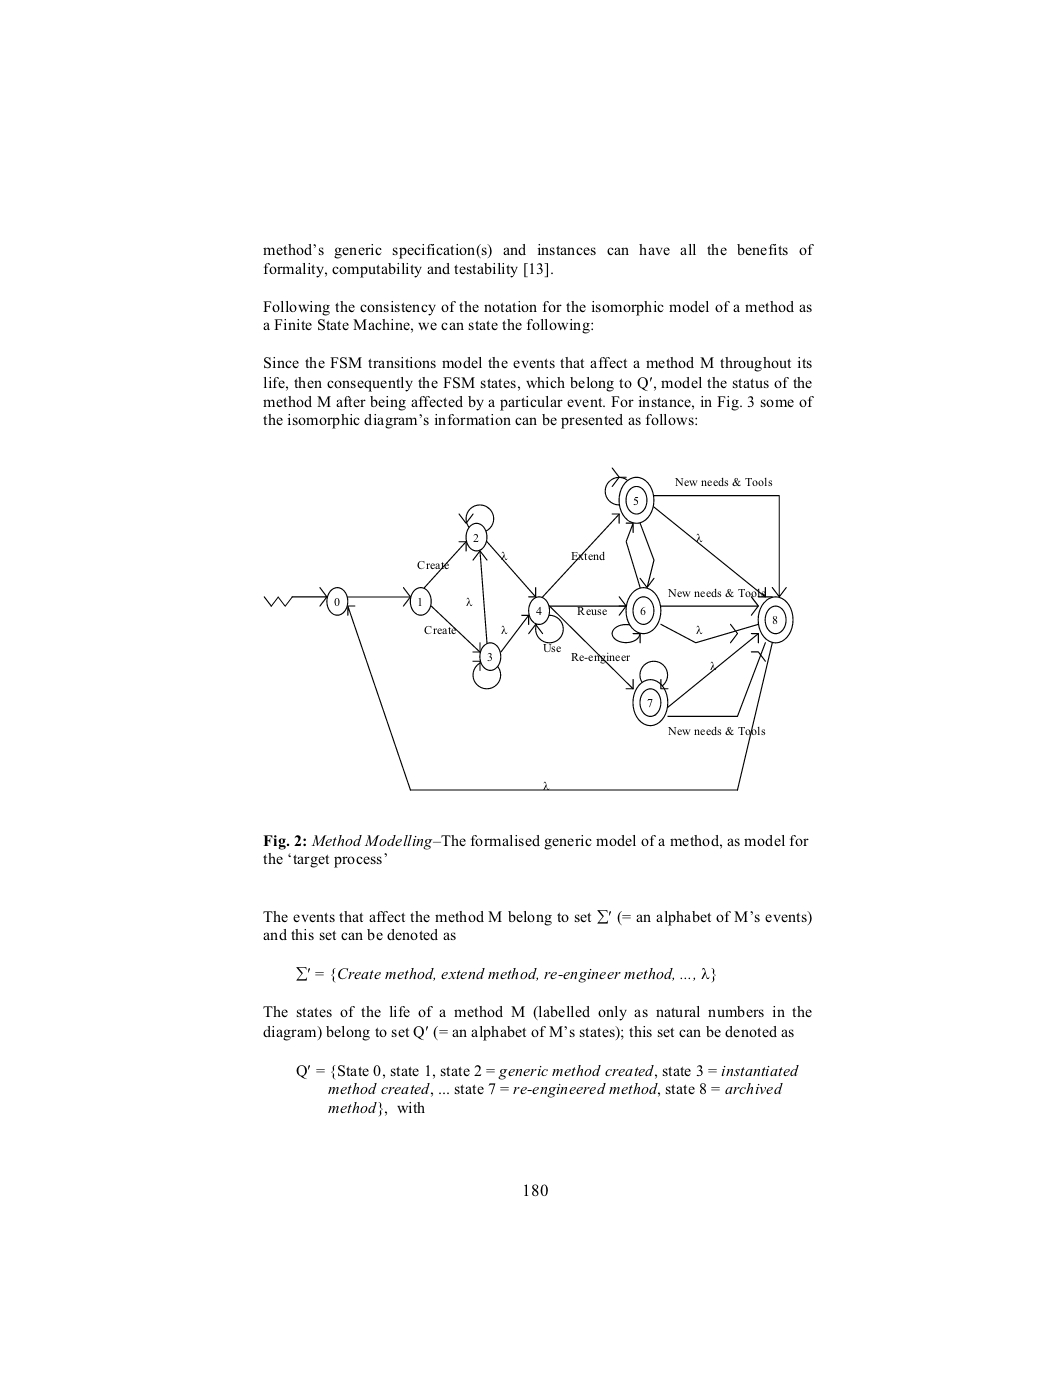figure: (263, 466, 794, 791)
